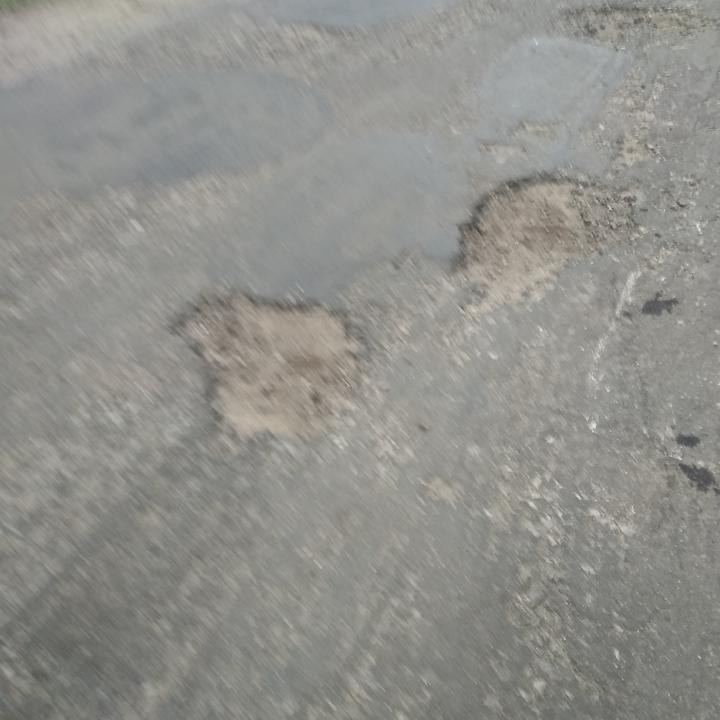pothole: (159, 280, 377, 447), (443, 167, 620, 318), (550, 0, 703, 46)
